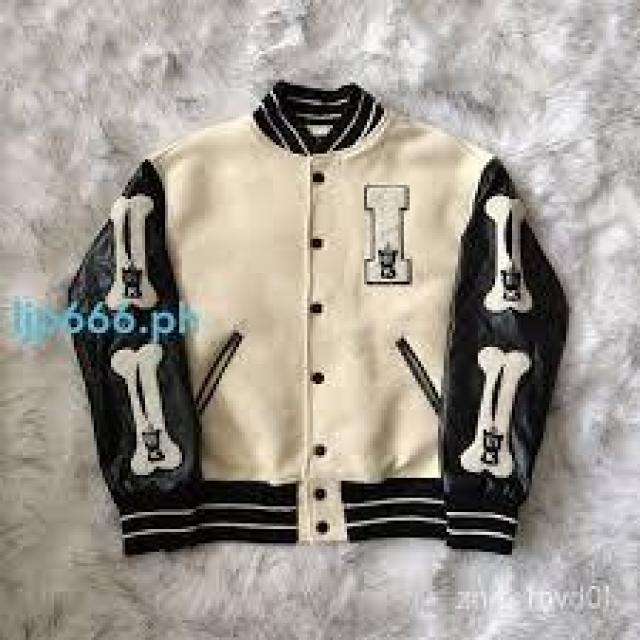sweater: (64, 87, 570, 559)
